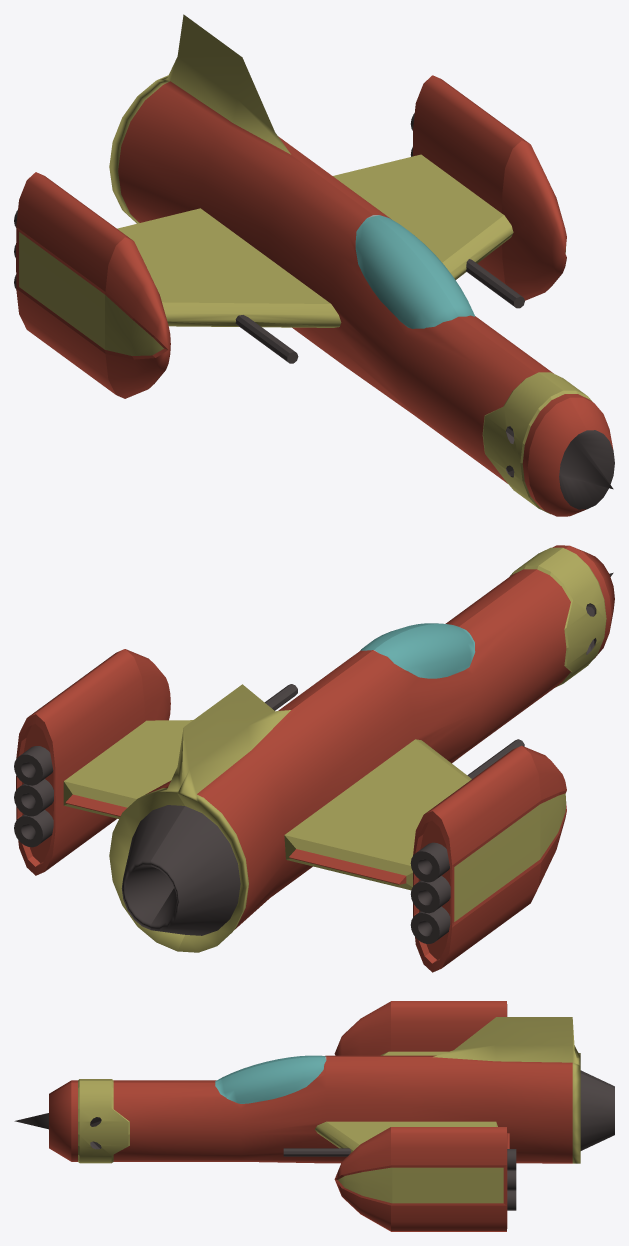
The model's file is Fighter_Ship_A.fbx.
The picture shows the model from 3 angles, top to bottom: view 1: azimuth 30°, elevation 25°; view 2: azimuth 150°, elevation 25°; view 3: azimuth 270°, elevation 25°; orthographic projection. The views are drawn at different scales.
Parts seen in each view (by area): view 1: pCylinder23; view 2: pCylinder23; view 3: pCylinder23.
Boxes of the visible parts, box(x1,y1,x2,y2) form: pCylinder23: box(14, 14, 614, 516); pCylinder23: box(14, 545, 614, 972); pCylinder23: box(14, 1001, 614, 1231).
Bounding box in the file's own units: 7.7 × 3.94 × 14.15.
